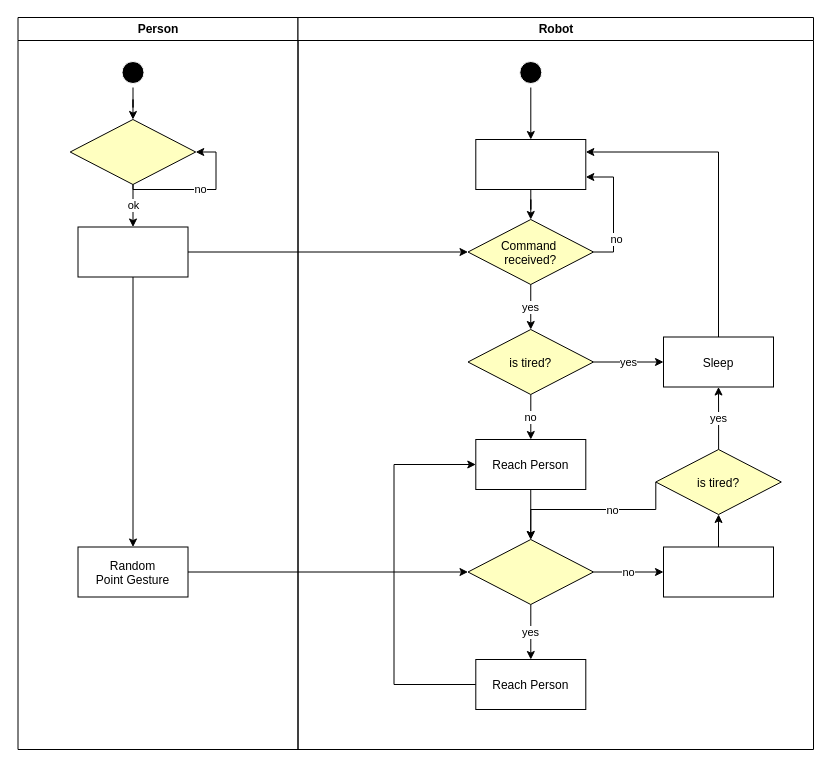
This 831x767 diagram has some shape labels left out. The box of each missing label's shape, as (x1, y1, x2, y2) in pixels:
Detected pointed target?: (467, 538, 594, 604)
Move Randomly: (475, 138, 586, 190)
Play command: (77, 226, 188, 277)
Random selection: (69, 118, 196, 184)
Wait in position: (662, 546, 774, 597)
